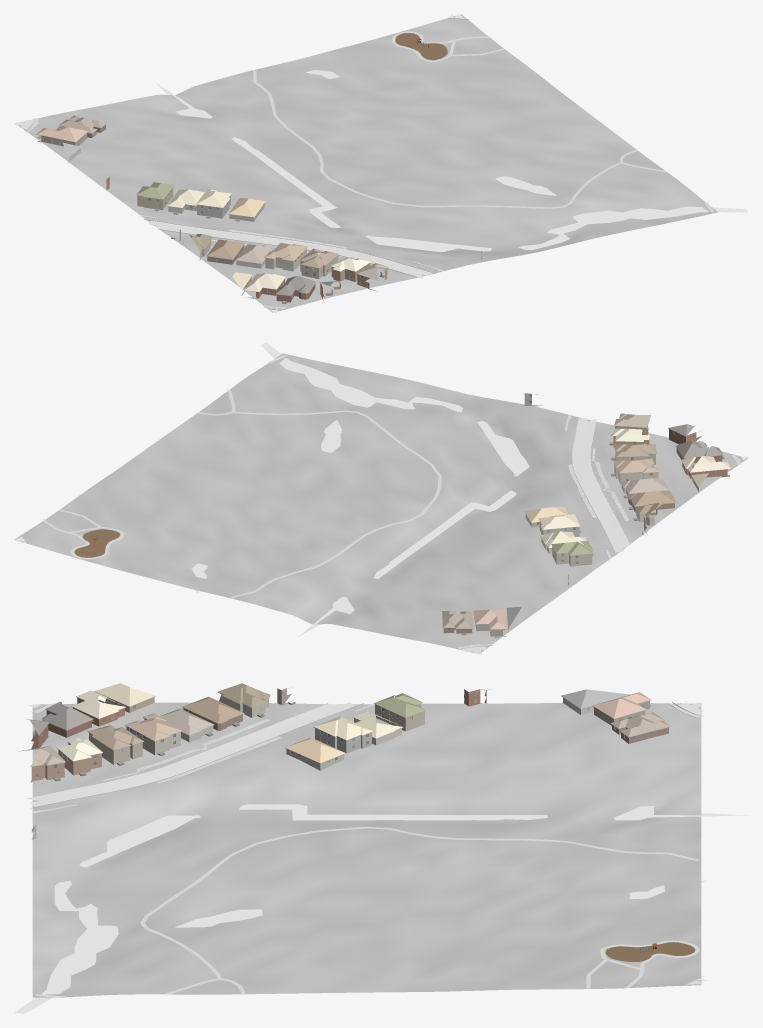
3 renders of one model, top to bottom at view 1: azimuth 30°, elevation 25°; view 2: azimuth 150°, elevation 25°; view 3: azimuth 270°, elevation 25°, orthographic. The views are drawn at different scales.
Visible parts, largest first — view 1: ground, roof, water, walk, wall, concrete, detail, wall_stucco, curb; view 2: ground, roof, water, walk, concrete, wall, detail, wall_stucco; view 3: ground, roof, water, wall, walk, concrete, detail, wall_stucco, curb.
Boxes of the visible parts, x1=… form: ground: x1=18, y1=14, x2=717, y2=312; roof: x1=36, y1=115, x2=395, y2=295; water: x1=155, y1=62, x2=748, y2=252; walk: x1=27, y1=31, x2=714, y2=308; wall: x1=37, y1=125, x2=387, y2=302; concrete: x1=14, y1=14, x2=464, y2=313; detail: x1=36, y1=33, x2=481, y2=303; wall_stucco: x1=68, y1=148, x2=306, y2=271; curb: x1=25, y1=17, x2=470, y2=310; ground: x1=14, y1=353, x2=747, y2=653; roof: x1=442, y1=413, x2=730, y2=629; water: x1=191, y1=342, x2=529, y2=637; walk: x1=43, y1=354, x2=740, y2=650; concrete: x1=16, y1=418, x2=748, y2=654; wall: x1=443, y1=426, x2=729, y2=636; detail: x1=74, y1=394, x2=730, y2=638; wall_stucco: x1=508, y1=393, x2=658, y2=632; ground: x1=32, y1=702, x2=701, y2=997; roof: x1=20, y1=683, x2=670, y2=766; water: x1=14, y1=804, x2=748, y2=1013; wall: x1=30, y1=688, x2=668, y2=782; walk: x1=32, y1=703, x2=703, y2=997; concrete: x1=26, y1=702, x2=706, y2=984; detail: x1=30, y1=687, x2=695, y2=961; wall_stucco: x1=32, y1=694, x2=593, y2=839; curb: x1=31, y1=702, x2=701, y2=985.
Size of the model in its own units: 268 by 14.77 by 275.
